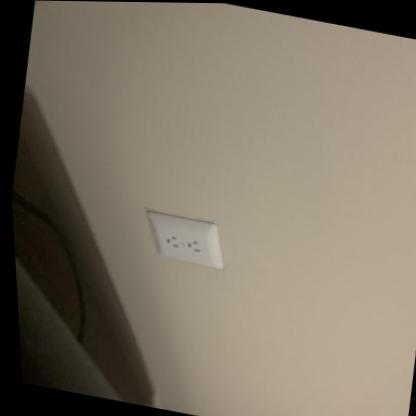OUTLET: (139, 210, 229, 270)
